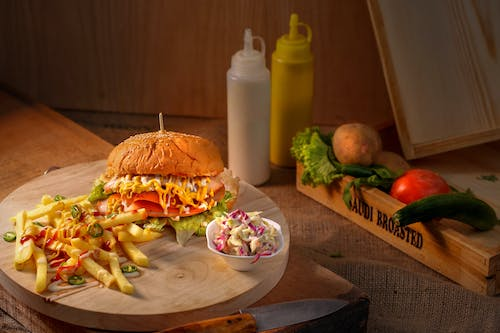knife: (152, 297, 351, 333)
